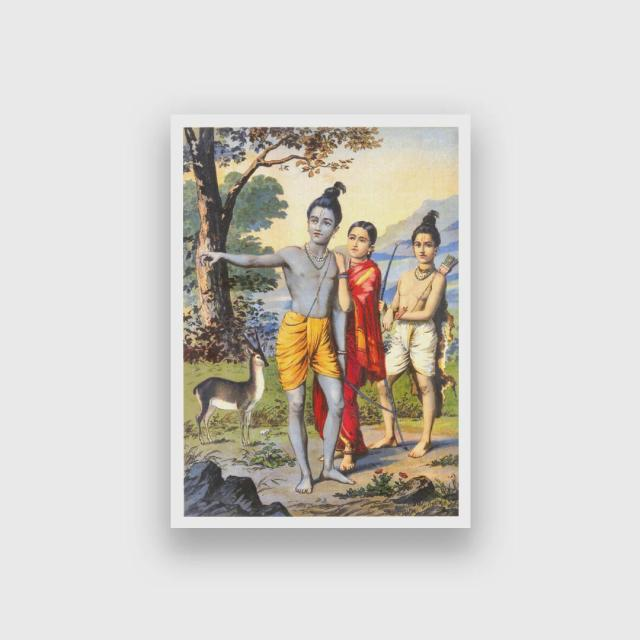painting: (170, 112, 472, 530)
